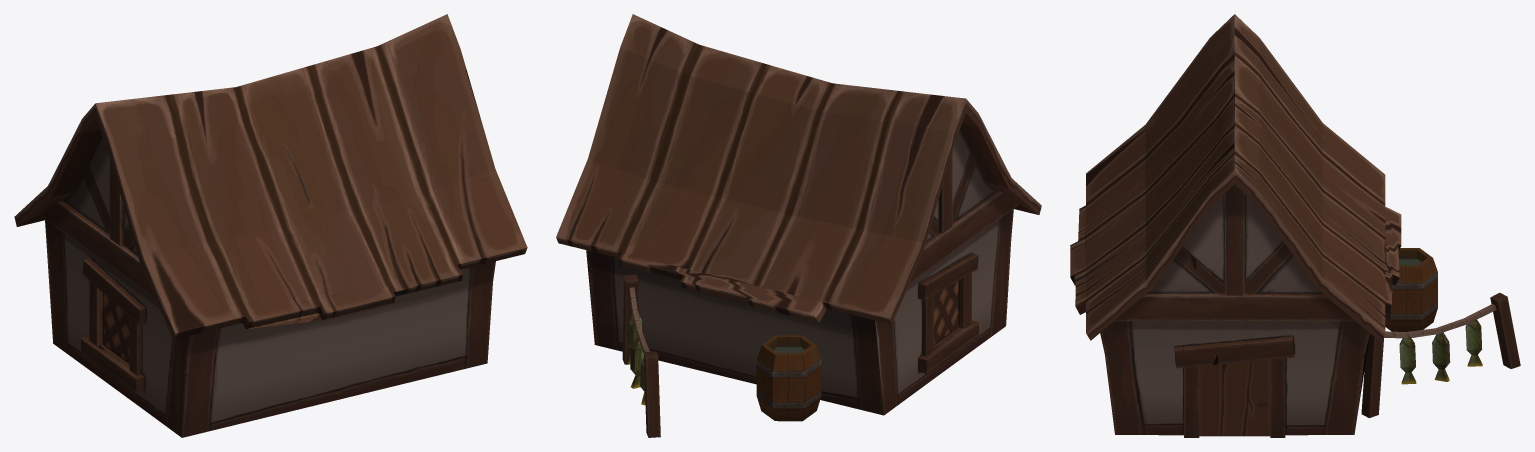
File: Low_Poly_Fisherman_39_s_Hut.glb
3 renders of one model, left to right at view 1: azimuth 30°, elevation 25°; view 2: azimuth 150°, elevation 25°; view 3: azimuth 270°, elevation 25°, orthographic. The views are drawn at different scales.
Parts seen in each view (by area): view 1: Cube.000_Material.000_0, Cube.004_Material.002_0; view 2: Cube.000_Material.000_0, Cube.004_Material.002_0, Cylinder_Material.003_0, Cube_Material.004_0, Cube.002_Material.005_0; view 3: Cube.000_Material.000_0, Cube.004_Material.002_0, Cube.005_Material_0, Cube_Material.004_0, Cylinder_Material.003_0, Cube.002_Material.005_0, Cube.001_Material.005_0, Cube.003_Material.005_0.
Part boxes in pixels (x1,y1,x2,y2): Cube.000_Material.000_0: (14, 14, 527, 339); Cube.004_Material.002_0: (45, 220, 495, 437); Cube.000_Material.000_0: (556, 14, 1041, 324); Cube.004_Material.002_0: (586, 208, 1013, 415); Cylinder_Material.003_0: (756, 335, 821, 421); Cube_Material.004_0: (622, 274, 660, 437); Cube.002_Material.005_0: (630, 337, 647, 388); Cube.000_Material.000_0: (1070, 14, 1401, 341); Cube.004_Material.002_0: (1100, 321, 1370, 437); Cube.005_Material_0: (1199, 360, 1270, 436); Cube_Material.004_0: (1361, 292, 1520, 418); Cylinder_Material.003_0: (1385, 248, 1437, 331); Cube.002_Material.005_0: (1432, 332, 1450, 381); Cube.001_Material.005_0: (1399, 336, 1416, 384); Cube.003_Material.005_0: (1465, 319, 1482, 366).
Size of the model in its own units: 385 by 311 by 459.
Materials: 6 (6 with a texture image).
